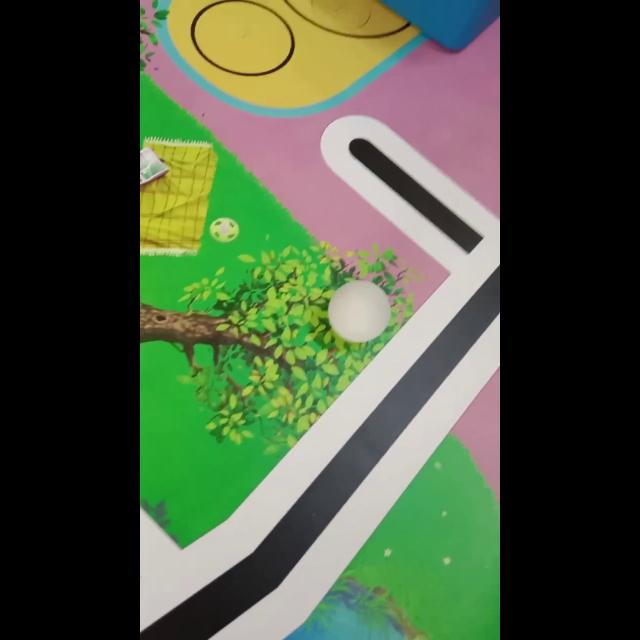white ball: (326, 279, 392, 343)
